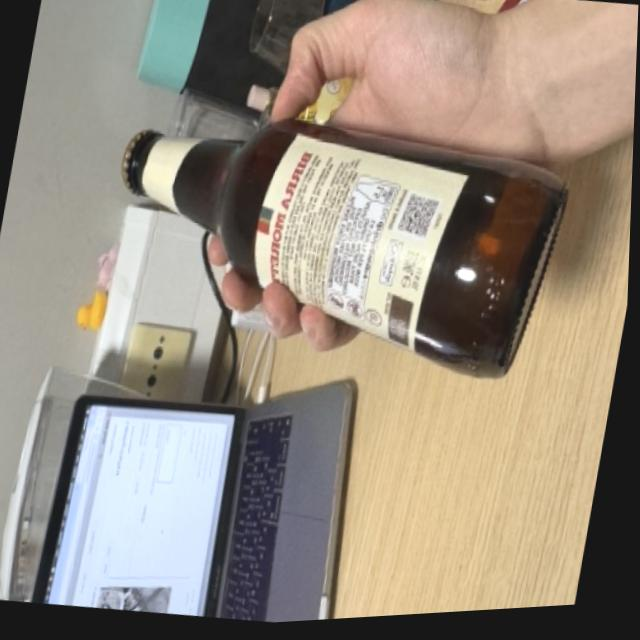beer: (88, 69, 578, 408)
